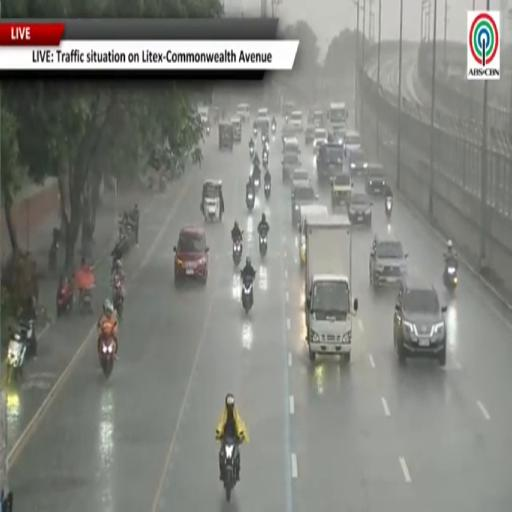bus: (328, 103, 348, 127)
car: (394, 277, 446, 365), (174, 227, 209, 284), (370, 238, 408, 289), (299, 205, 328, 265), (291, 183, 318, 226), (316, 143, 344, 184), (331, 171, 353, 212), (347, 194, 372, 226), (366, 164, 386, 196), (282, 152, 301, 182), (348, 149, 368, 175), (343, 131, 362, 152), (313, 127, 327, 153), (291, 168, 310, 186), (289, 110, 303, 133), (256, 108, 270, 129), (236, 103, 250, 122), (282, 125, 296, 143), (231, 117, 241, 142), (282, 102, 294, 122), (332, 126, 346, 143), (305, 125, 314, 145), (313, 110, 324, 126), (307, 110, 314, 125)
motorcycle: (6, 333, 27, 385), (222, 439, 238, 502), (99, 337, 115, 379), (18, 319, 35, 356), (56, 284, 73, 317), (48, 229, 61, 271), (113, 276, 123, 319), (444, 262, 458, 291), (242, 278, 253, 313), (79, 287, 92, 313), (49, 240, 59, 271), (233, 240, 242, 265), (259, 231, 267, 257), (385, 197, 392, 219), (246, 192, 254, 211), (159, 175, 166, 193), (264, 182, 270, 199), (262, 151, 268, 167), (254, 176, 260, 190), (264, 140, 269, 153), (250, 147, 254, 161), (272, 123, 276, 134), (253, 127, 257, 137), (206, 125, 210, 135), (262, 133, 265, 145), (285, 115, 288, 123)
truck: (305, 215, 358, 361)
